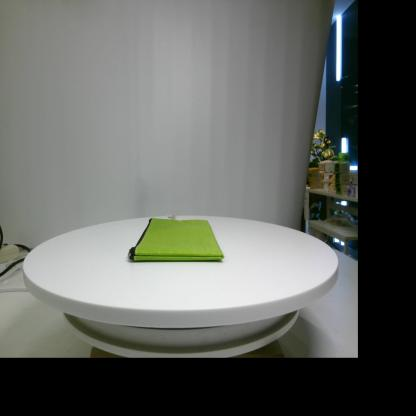Stationery: (128, 215, 224, 261)
